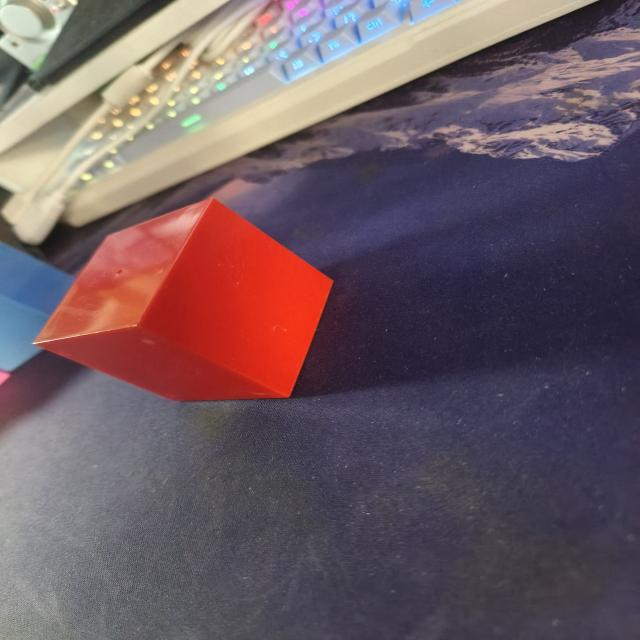red: (15, 192, 339, 406)
